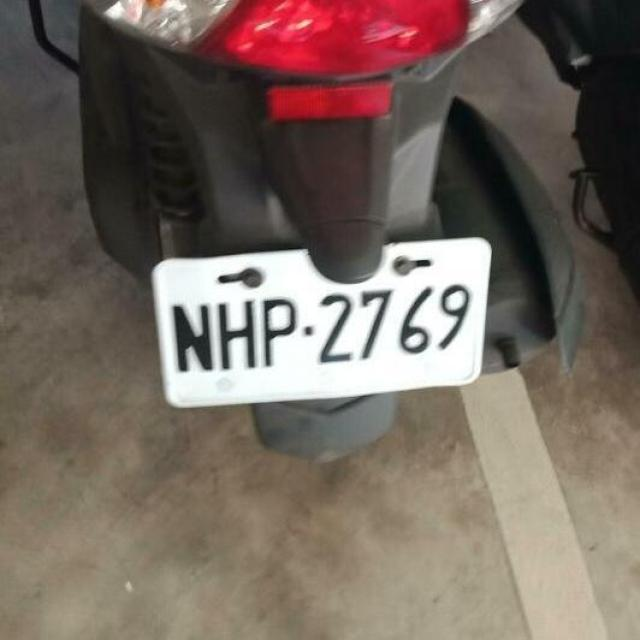W: (138, 222, 504, 424)
